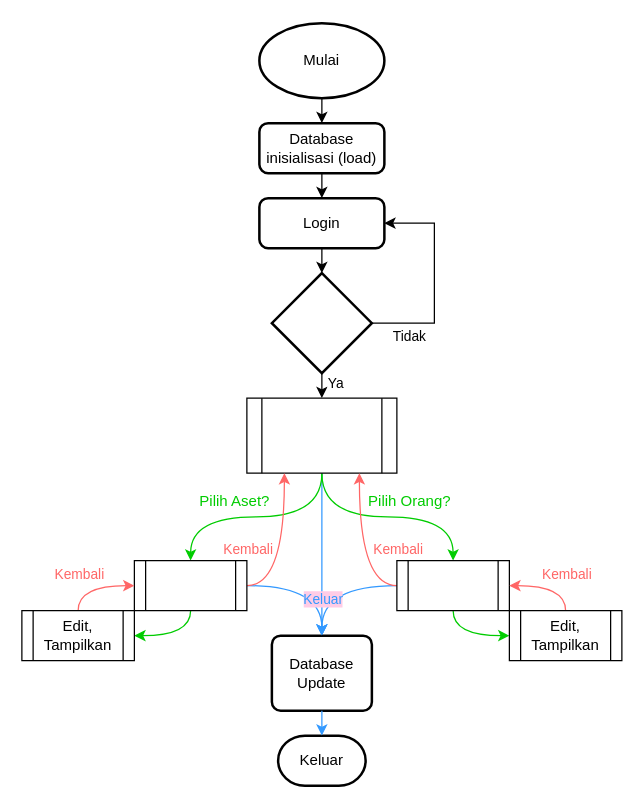
The diagram is 644 pixels wide and 808 high, and some of its shapes have lost their labels. The centre of each missing label's shape, as x and y in pixels:
Dashboard: [321,435]
Data Aset: [190,585]
Data Orang: [452,585]
Sesuai?: [321,322]
